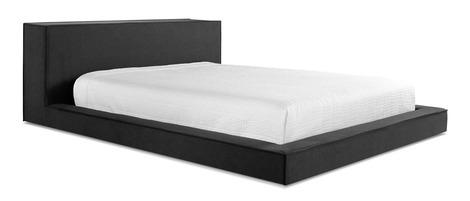bed: (15, 14, 457, 193)
